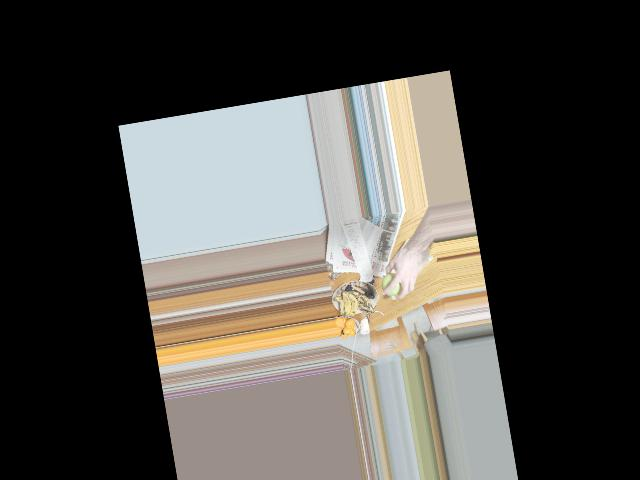apple: (379, 268, 407, 297)
